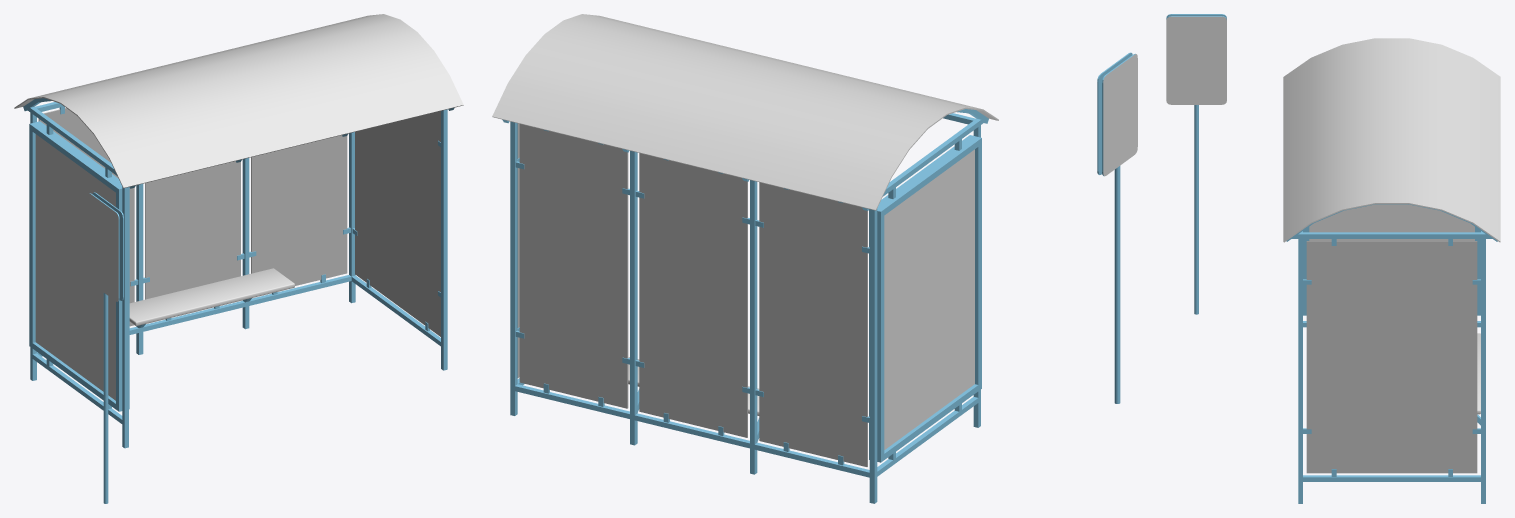
Rendered from bus.gltf.
The picture shows the model from 3 angles, left to right: view 1: azimuth 30°, elevation 25°; view 2: azimuth 150°, elevation 25°; view 3: azimuth 270°, elevation 25°; orthographic projection. The views are drawn at different scales.
Visible parts, largest first — view 1: bus_stop, sign; view 2: bus_stop, sign; view 3: bus_stop, sign.
Boxes of the visible parts, bbox=[...] form: bus_stop: bbox=[14, 14, 463, 448]; sign: bbox=[88, 192, 123, 503]; bus_stop: bbox=[492, 14, 998, 503]; sign: bbox=[1097, 52, 1137, 403]; bus_stop: bbox=[1283, 38, 1500, 503]; sign: bbox=[1166, 14, 1226, 314].
Bounding box in the file's own units: 3.8 × 2.76 × 2.75.
